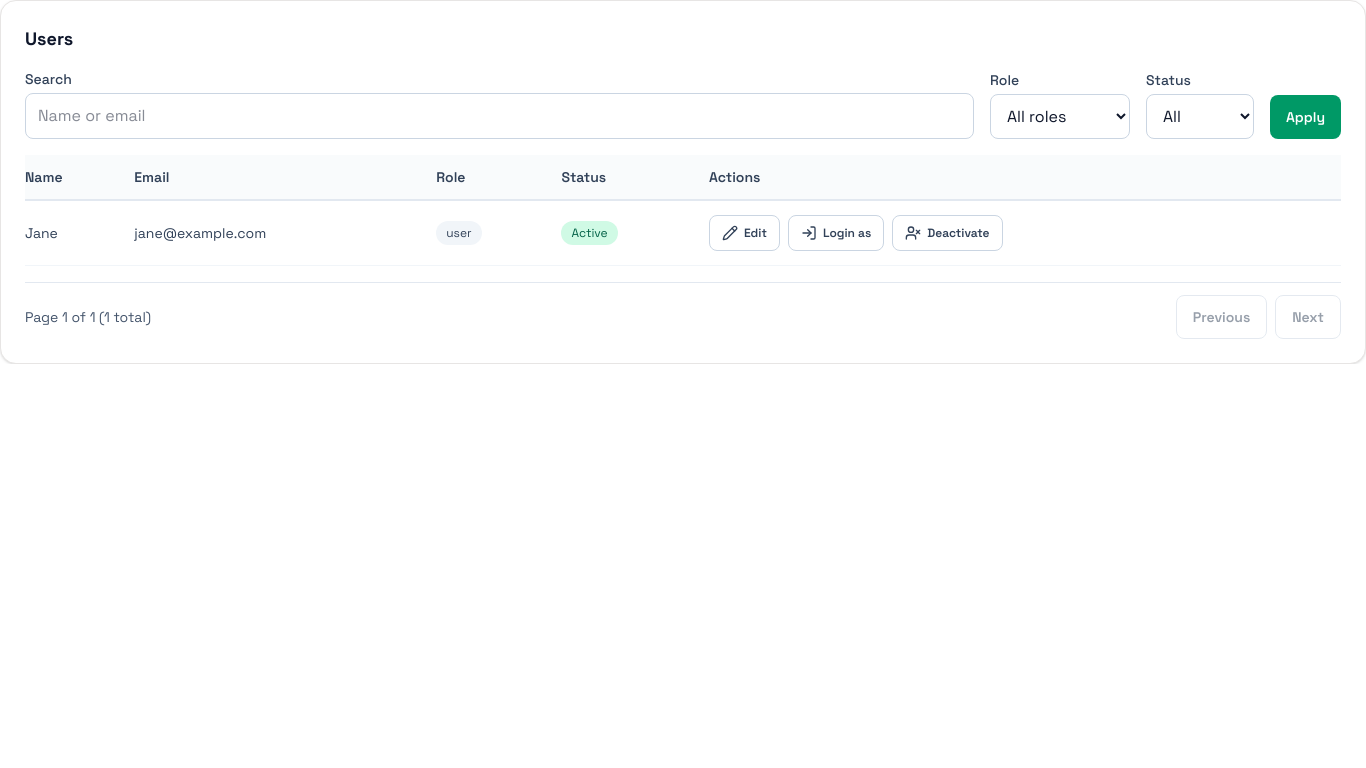
Test: UsersPage › edit modal save shows error when PUT fails
Click the button "Edit" at (744, 233), box [709, 215, 780, 251]
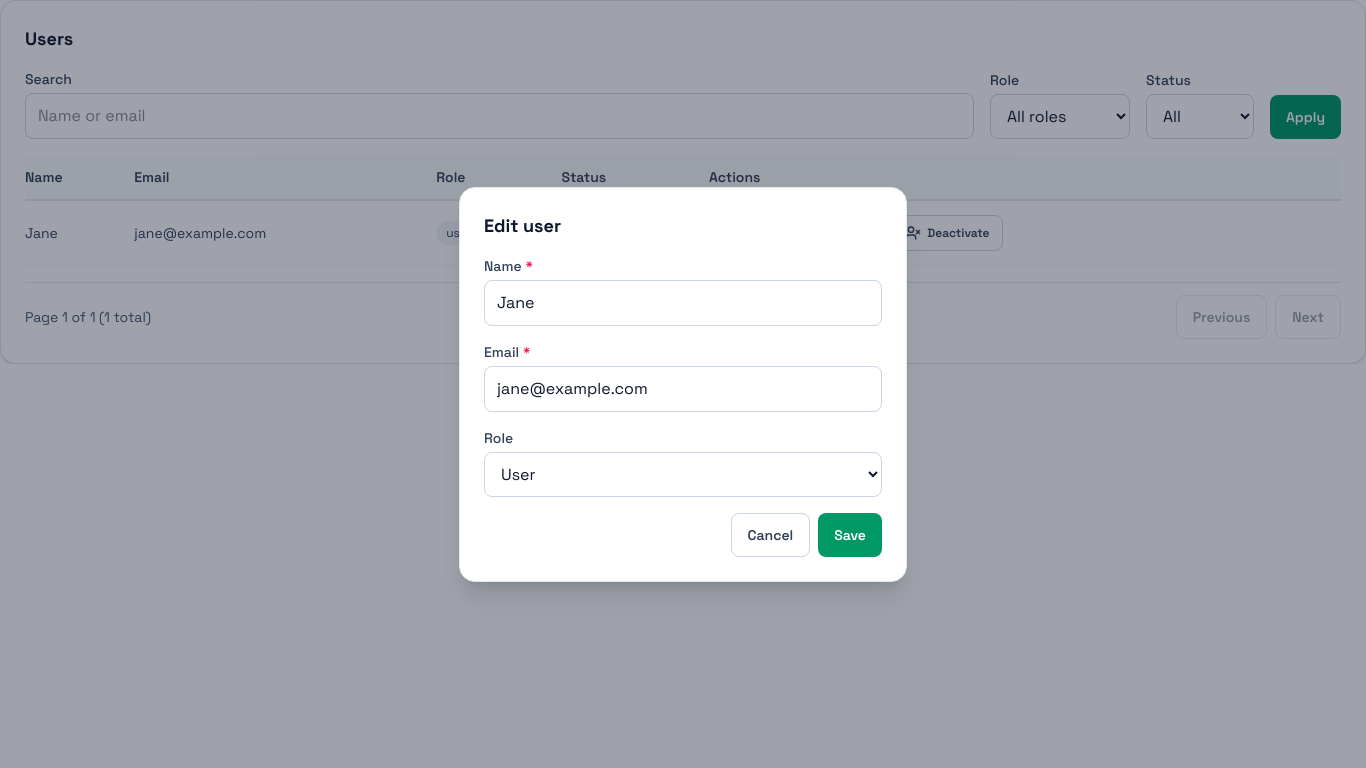
Expected: the dialog "Edit user Name* Email* Role Cancel Save" is shown
Click the button "Save" at (850, 534), box [818, 512, 882, 556]
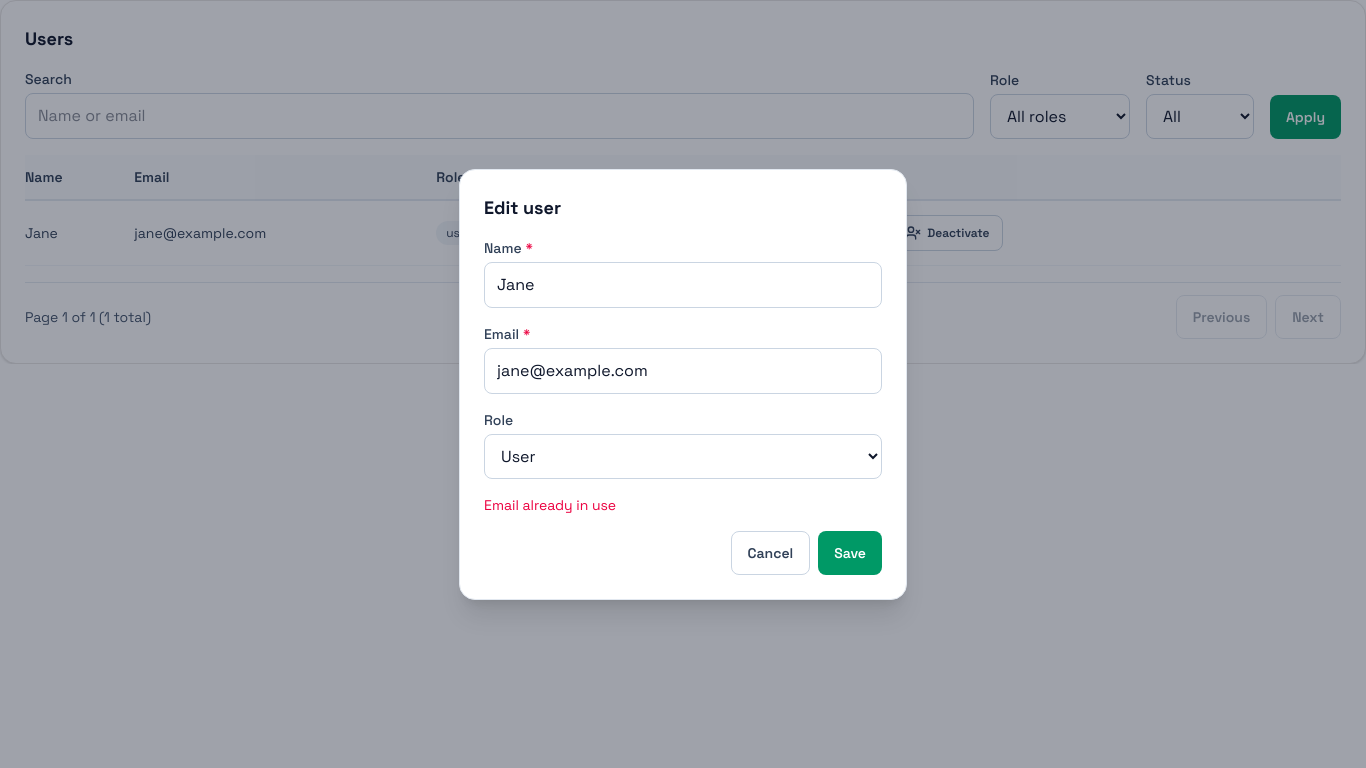
Expected: the text "Email already in use" is shown, [484, 496, 616, 514]
